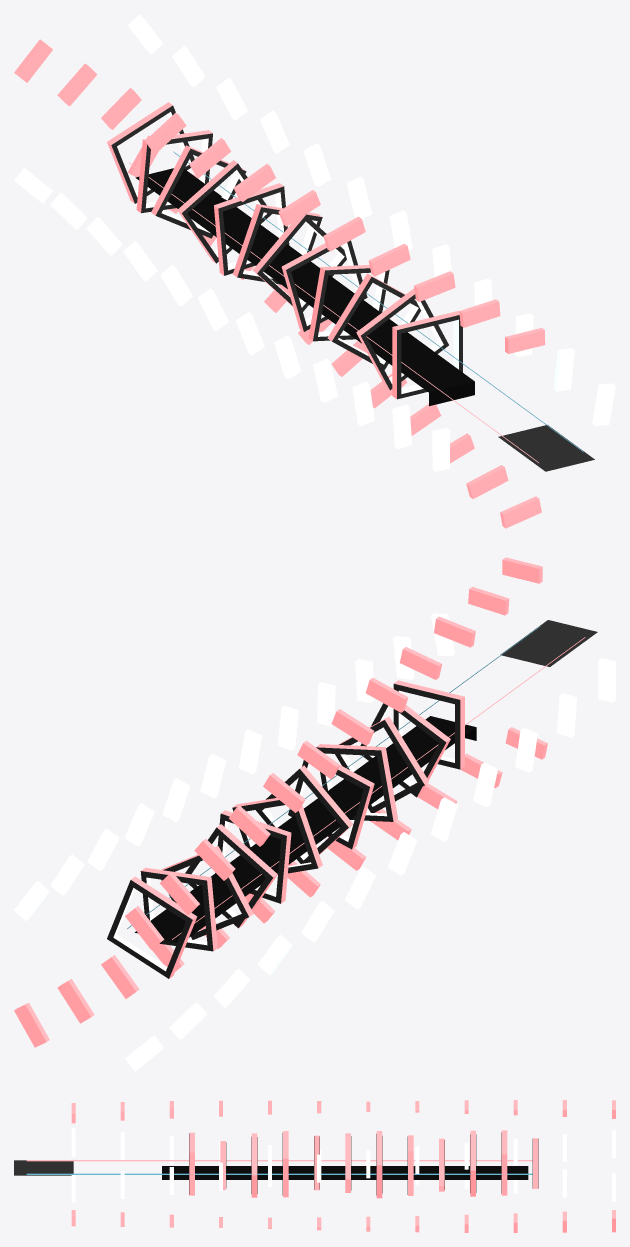
Rendered from Beat Space Enviroment.fbx.
The picture shows the model from 3 angles, top to bottom: view 1: azimuth 30°, elevation 25°; view 2: azimuth 150°, elevation 25°; view 3: azimuth 270°, elevation 25°; orthographic projection. The views are drawn at different scales.
Visible parts, largest first — view 1: Cube.007, Cube.005, Plane.005, Plane.003, Plane.004; view 2: Cube.007, Cube.005, Plane.005, Plane.003, Plane.004; view 3: Cube.005, Cube.007, Plane.005, Plane.004, Plane.003.
Part boxes in pixels (left/top/right/bottom): Cube.007: left=14, top=14, right=615, bottom=528; Cube.005: left=107, top=102, right=462, bottom=399; Plane.005: left=135, top=168, right=474, bottom=406; Plane.003: left=498, top=425, right=594, bottom=471; Plane.004: left=129, top=151, right=583, bottom=462; Cube.007: left=14, top=557, right=615, bottom=1071; Cube.005: left=107, top=680, right=464, bottom=978; Plane.005: left=135, top=716, right=476, bottom=942; Plane.003: left=500, top=620, right=597, bottom=666; Plane.004: left=127, top=626, right=585, bottom=939; Cube.005: left=189, top=1130, right=538, bottom=1198; Cube.007: left=71, top=1100, right=615, bottom=1232; Plane.005: left=162, top=1166, right=528, bottom=1179; Plane.004: left=26, top=1160, right=532, bottom=1174; Plane.003: left=14, top=1160, right=73, bottom=1175.
Bounding box in the file's own units: 1099 × 1117 × 5057.
